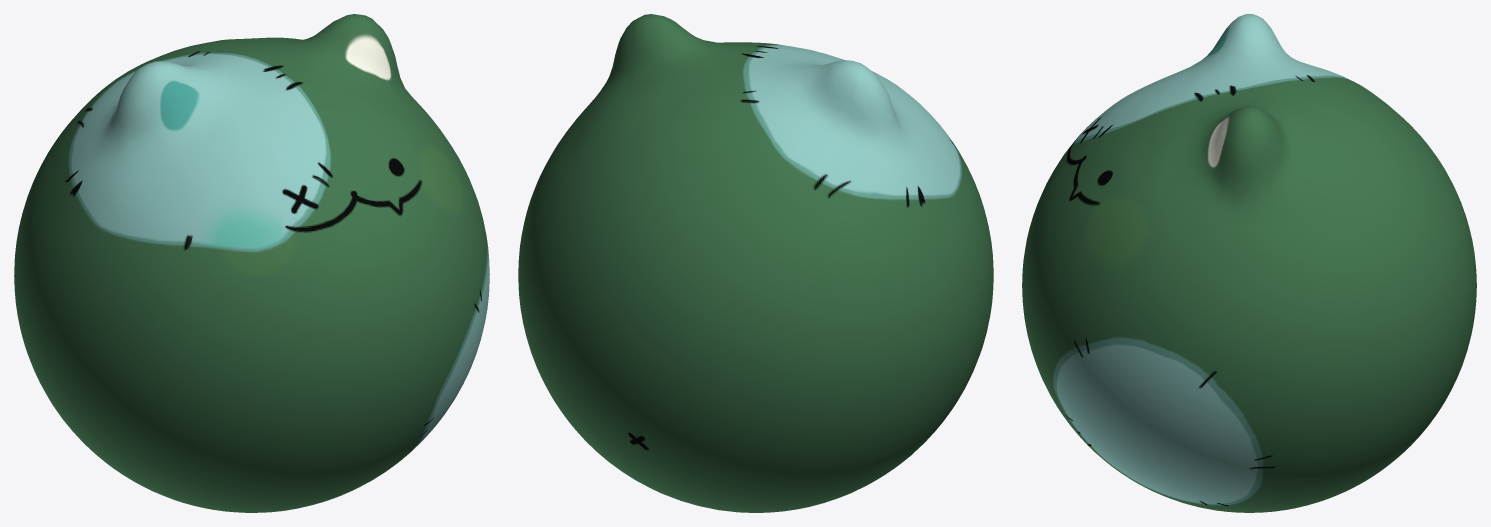
File: RollyCat.fbx
The picture shows the model from 3 angles, left to right: view 1: azimuth 30°, elevation 25°; view 2: azimuth 150°, elevation 25°; view 3: azimuth 270°, elevation 25°; orthographic projection. The views are drawn at different scales.
Visible parts, largest first — view 1: RollyCat.001; view 2: RollyCat.001; view 3: RollyCat.001.
Boxes of the visible parts, x1,y1,x2,y2 form: RollyCat.001: (14, 14, 489, 512); RollyCat.001: (518, 14, 993, 512); RollyCat.001: (1022, 14, 1476, 512).
Size of the model in its own units: 346 by 362 by 346.
